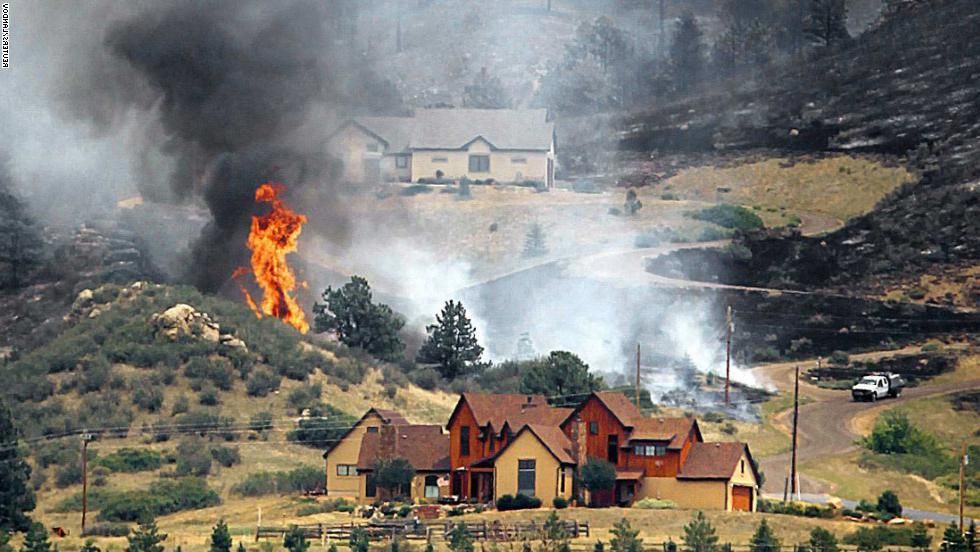Fire: (242, 183, 312, 335)
